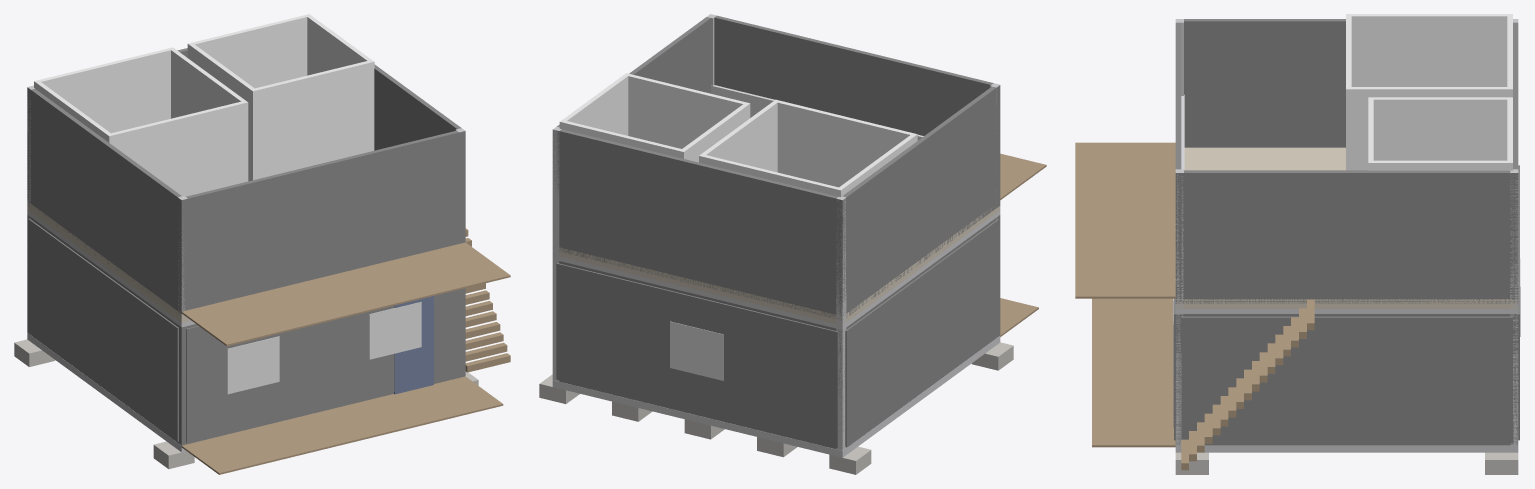
File: Duplex-20-Base-AntiqueWallGrey-LOD3.glb
The picture shows the model from 3 angles, left to right: view 1: azimuth 30°, elevation 25°; view 2: azimuth 150°, elevation 25°; view 3: azimuth 270°, elevation 25°; orthographic projection. The views are drawn at different scales.
Visible parts, largest first — view 1: ExteriorShellUpper, ExteriorPanelsStandard, StudyUpper, BedroomUpper, BalconyUpper, BalconyGround, WindowsStandard, StaircaseExternal, ExteriorShell, EntryDoor, FoundationBlocks, FloorUpper (+3 smaller); view 2: ExteriorShellUpper, ExteriorPanelsStandard, BedroomUpper, StudyUpper, FloorUpper, VerticalStructure, FoundationBlocks, BaseFrame, ExteriorShell, WindowsStandard, TopFrame, BalconyUpper (+2 smaller); view 3: ExteriorShellUpper, ExteriorPanelsStandard, BalconyUpper, BedroomUpper, BalconyGround, StudyUpper, FloorUpper, StaircaseExternal, ExteriorShell, VerticalStructure, BaseFrame, TopFrame (+1 smaller).
Boxes of the visible parts, x1=… form: ExteriorShellUpper: x1=27, y1=48, x2=465, y2=315; ExteriorPanelsStandard: x1=28, y1=218, x2=461, y2=442; StudyUpper: x1=187, y1=14, x2=374, y2=181; BedroomUpper: x1=34, y1=47, x2=248, y2=196; BalconyUpper: x1=181, y1=242, x2=510, y2=346; BalconyGround: x1=181, y1=376, x2=503, y2=474; WindowsStandard: x1=227, y1=301, x2=421, y2=394; StaircaseExternal: x1=465, y1=228, x2=510, y2=372; ExteriorShell: x1=27, y1=214, x2=465, y2=445; EntryDoor: x1=394, y1=296, x2=433, y2=394; FoundationBlocks: x1=14, y1=339, x2=478, y2=469; FloorUpper: x1=27, y1=201, x2=190, y2=322; ExteriorShellUpper: x1=553, y1=15, x2=1000, y2=320; ExteriorPanelsStandard: x1=556, y1=219, x2=999, y2=447; BedroomUpper: x1=699, y1=99, x2=917, y2=197; StudyUpper: x1=559, y1=73, x2=750, y2=162; FloorUpper: x1=559, y1=206, x2=1000, y2=324; VerticalStructure: x1=552, y1=14, x2=999, y2=450; FoundationBlocks: x1=539, y1=342, x2=1013, y2=474; BaseFrame: x1=552, y1=336, x2=1000, y2=457; ExteriorShell: x1=559, y1=215, x2=1000, y2=448; WindowsStandard: x1=670, y1=321, x2=723, y2=380; TopFrame: x1=559, y1=210, x2=1000, y2=329; BalconyUpper: x1=1000, y1=153, x2=1046, y2=199; ExteriorShellUpper: x1=1175, y1=19, x2=1518, y2=303; ExteriorPanelsStandard: x1=1174, y1=165, x2=1519, y2=443; BalconyUpper: x1=1075, y1=142, x2=1175, y2=298; BedroomUpper: x1=1346, y1=14, x2=1512, y2=170; BalconyGround: x1=1092, y1=298, x2=1175, y2=447; StudyUpper: x1=1368, y1=97, x2=1512, y2=170; FloorUpper: x1=1176, y1=147, x2=1518, y2=308; StaircaseExternal: x1=1181, y1=299, x2=1314, y2=470; ExteriorShell: x1=1175, y1=314, x2=1518, y2=445; VerticalStructure: x1=1175, y1=19, x2=1518, y2=445; BaseFrame: x1=1175, y1=445, x2=1518, y2=452; TopFrame: x1=1175, y1=309, x2=1518, y2=313.
Size of the model in its own units: 7.94 by 6 by 8.
